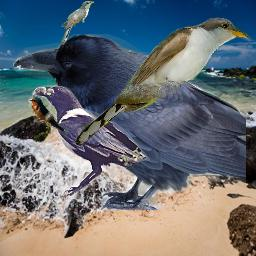Crow: (13, 34, 246, 210), (32, 85, 150, 196)
Cuckoo: (72, 16, 254, 147), (60, 1, 94, 46)
Swallow: (28, 96, 68, 135)
